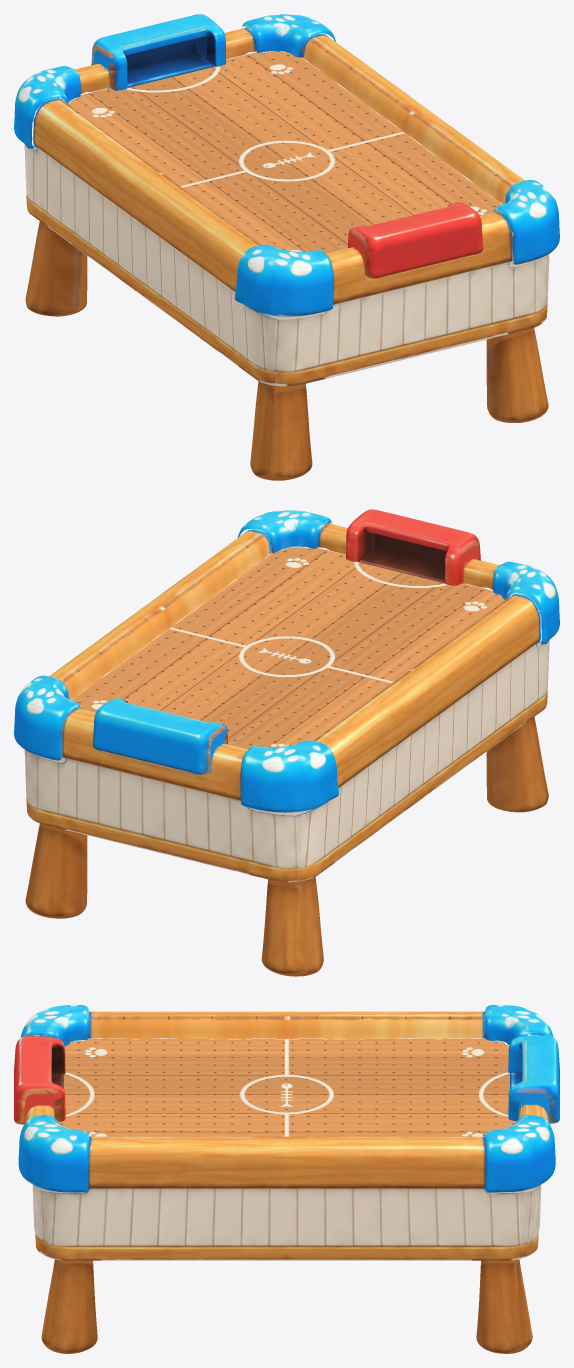
Rendered from table-garden.glb.
The picture shows the model from 3 angles, top to bottom: view 1: azimuth 30°, elevation 25°; view 2: azimuth 150°, elevation 25°; view 3: azimuth 270°, elevation 25°; orthographic projection. The views are drawn at different scales.
Visible parts, largest first — view 1: table; view 2: table; view 3: table.
Boxes of the visible parts, x1,y1,x2,y2 form: table: (14,14,559,480); table: (14,509,559,976); table: (14,1005,559,1353).
Size of the model in its own units: 7.88 by 5.68 by 12.31.
Materials: 2 (2 with a texture image).
